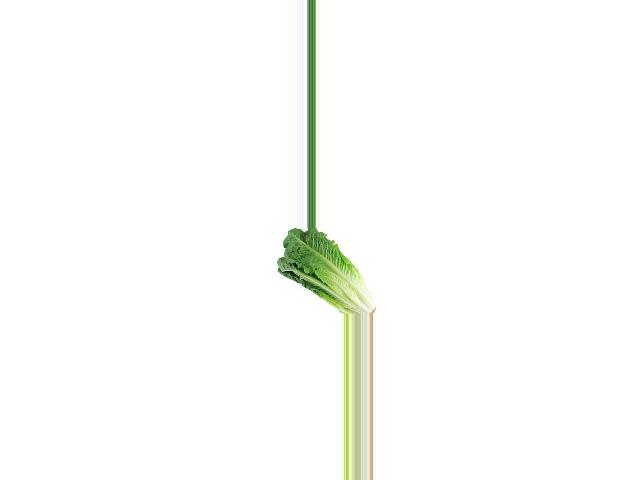lettuce: (275, 228, 377, 314)
